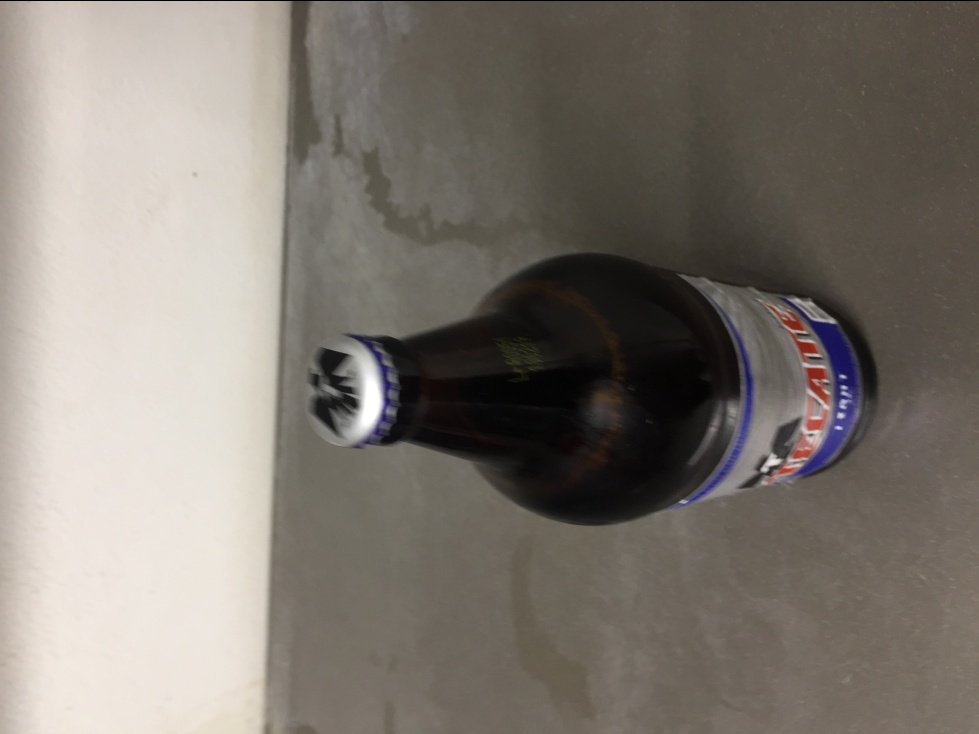tecateC: (307, 252, 879, 531)
